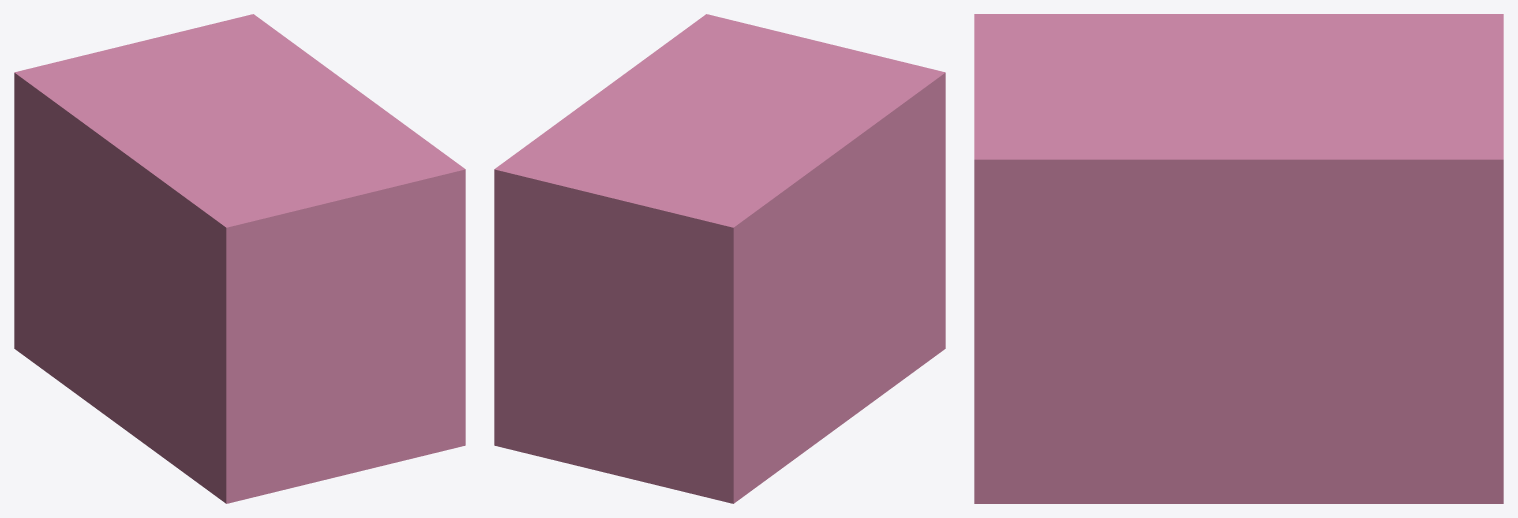
Rendered from ind_bld_03.dae.
3 renders of one model, left to right at view 1: azimuth 30°, elevation 25°; view 2: azimuth 150°, elevation 25°; view 3: azimuth 270°, elevation 25°, orthographic. The views are drawn at different scales.
Visible parts, largest first — view 1: Untitled; view 2: Untitled; view 3: Untitled.
Boxes of the visible parts, x1,y1,x2,y2 form: Untitled: (14,14,465,503); Untitled: (494,14,945,503); Untitled: (974,14,1503,503).
Bounding box in the file's own units: 13.43 × 20.63 × 14.81.
